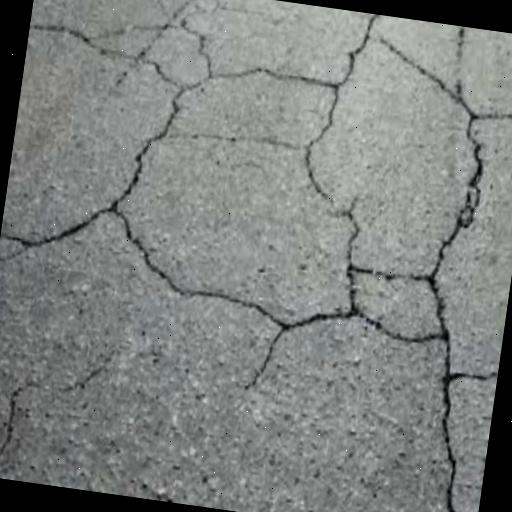spalling: (1, 206, 432, 394), (423, 31, 486, 512), (30, 17, 189, 195), (301, 15, 382, 297), (107, 20, 328, 91), (378, 37, 447, 96), (0, 376, 30, 471), (194, 126, 295, 153), (463, 364, 498, 391), (368, 265, 418, 282), (490, 106, 512, 123)
